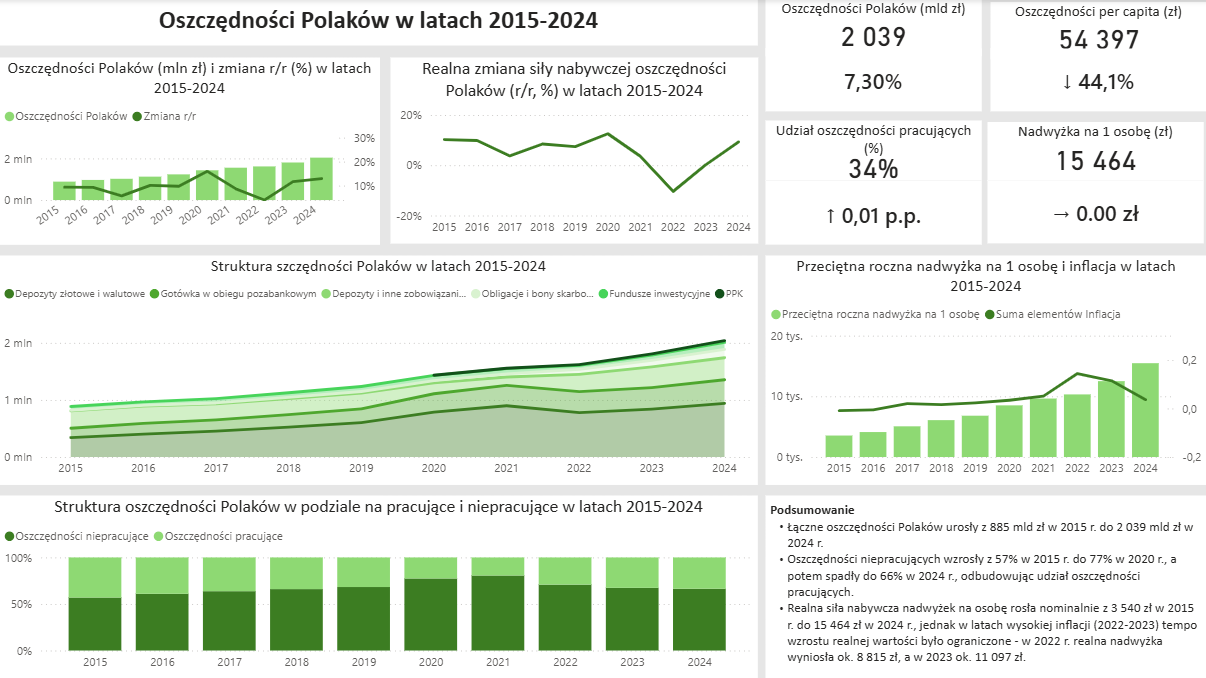

Layout of this report page (visuals, bound fields, positions):
{"tool":"powerbi","page":{"name":"Strona 1","canvas":[1280,720],"ordinal":0},"visuals":[{"type":"stackedAreaChart","title":"Struktura szczędności Polaków w latach 2015-2024","fields":{"Category":["Razem.Rok"],"Y":["Sum(Razem.ROR)","Sum(Razem.Gotówka)","Sum(Razem.Depozyty i inne zobowiązania do 2 lat włącznie)","Sum(Razem.Obligacje i bony skarbowe)","Sum(Razem.Fundusze inwestycyjne)","Sum(Razem.PPK)"]},"box":[0,272,804.8,243.4],"z":0},{"type":"textbox","box":[0,0,804.8,49.3],"z":1000},{"type":"lineClusteredColumnComboChart","title":"Oszczędności Polaków (mln zł) i zmiana r/r (%) w latach 2015-2024","fields":{"Y2":["Sum(Razem.YoY razem)"],"Y":["Sum(Razem.RAZEM)"],"Category":["Razem.Rok"]},"box":[0,62,404,198.8],"z":2000},{"type":"kpi","title":"Oszczędności Polaków (mld zł)","fields":{"Indicator":["Razem.Suma oszczędności (mld zł)"],"TrendLine":["Razem.Rok"]},"box":[812.8,0,229,60.4],"z":3000},{"type":"lineChart","title":"Realna zmiana siły nabywczej oszczędności Polaków (r/r, %) w latach 2015-2024","fields":{"Category":["Razem.Rok"],"Y":["Razem.Yoy realnie razem %"]},"box":[415.1,62,389.7,197.2],"z":4000},{"type":"hundredPercentStackedColumnChart","title":"Struktura oszczędności Polaków w podziale na pracujące i niepracujące w latach 2015-2024","fields":{"Category":["Razem.Rok"],"Y":["Sum(Razem.Oszczędności niepracujące udział)","Sum(Razem.Oszczędności pracujące udział)"]},"box":[0,526.5,804.8,194.1],"z":5000},{"type":"lineClusteredColumnComboChart","title":"Przeciętna roczna nadwyżka na 1 osobę i inflacja w latach 2015-2024","fields":{"Category":["GUS.Rok"],"Y":["Sum(GUS.Przeciętna roczna nadwyżka na 1 osobę)"],"Y2":["Sum(Razem.Inflacja)"]},"box":[812.8,272,467.6,243.4],"z":6000},{"type":"cardVisual","fields":{"Data":["Razem.Yoy realnie razem %"]},"box":[812.8,52.5,229,66.8],"z":7000},{"type":"kpi","title":"Oszczędności per capita (zł)","fields":{"TrendLine":["Razem.Rok"],"Indicator":["Razem.Oszczędności na osobę"]},"box":[1051.4,2.6,229,60.4],"z":8000},{"type":"cardVisual","fields":{"Data":["Razem.Oszczędności na osobę YoY – strzałka"]},"box":[1051.9,52.5,229.3,66.5],"z":9000},{"type":"kpi","title":"Nadwyżka na 1 osobę (zł)","fields":{"TrendLine":["Razem.Rok"],"Indicator":["GUS.Nadwyżka na osobę"]},"box":[1048.2,130.4,229,62],"z":10000},{"type":"cardVisual","fields":{"Data":["GUS.Nadwyżka na osobę YoY Tekst"]},"box":[1048.2,192.5,229,66.8],"z":11000},{"type":"kpi","title":"Udział oszczędności pracujących (%)","fields":{"TrendLine":["Razem.Rok"],"Indicator":["Razem.Udział oszczędności pracujących %"]},"box":[812.1,129.5,229.3,63],"z":12000},{"type":"cardVisual","fields":{"Data":["Razem.YoY oszczędności – strzałka"]},"box":[812.1,192.5,229.3,68.3],"z":13000},{"type":"textbox","box":[812.8,526.5,467.6,194.1],"z":14000}]}

Visuals, with their boxes in screenshot pixels (x1, y1, x2, y2), scaled from the page's 1280x720 canvas onto the 1206x678 screenshot:
"Struktura szczędności Polaków w latach 2015-2024" stackedAreaChart: crop(0, 256, 758, 485)
textbox: crop(0, 0, 758, 46)
"Oszczędności Polaków (mln zł) i zmiana r/r (%) w latach 2015-2024" lineClusteredColumnComboChart: crop(0, 58, 381, 246)
"Oszczędności Polaków (mld zł)" kpi: crop(766, 0, 982, 57)
"Realna zmiana siły nabywczej oszczędności Polaków (r/r, %) w latach 2015-2024" lineChart: crop(391, 58, 758, 244)
"Struktura oszczędności Polaków w podziale na pracujące i niepracujące w latach 2015-2024" hundredPercentStackedColumnChart: crop(0, 496, 758, 677)
"Przeciętna roczna nadwyżka na 1 osobę i inflacja w latach 2015-2024" lineClusteredColumnComboChart: crop(766, 256, 1205, 485)
cardVisual - Razem.Yoy realnie razem %: crop(766, 49, 982, 112)
"Oszczędności per capita (zł)" kpi: crop(991, 2, 1205, 59)
cardVisual - Razem.Oszczędności na osobę YoY – strzałka: crop(991, 49, 1205, 112)
"Nadwyżka na 1 osobę (zł)" kpi: crop(988, 123, 1203, 181)
cardVisual - GUS.Nadwyżka na osobę YoY Tekst: crop(988, 181, 1203, 244)
"Udział oszczędności pracujących (%)" kpi: crop(765, 122, 981, 181)
cardVisual - Razem.YoY oszczędności – strzałka: crop(765, 181, 981, 246)
textbox: crop(766, 496, 1205, 677)
